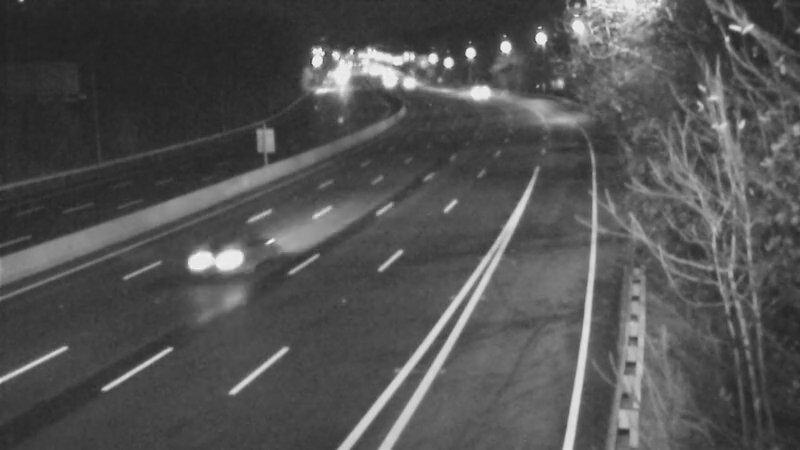vehicle: (179, 212, 259, 292), (364, 58, 414, 108), (379, 59, 429, 109), (452, 68, 502, 118)
